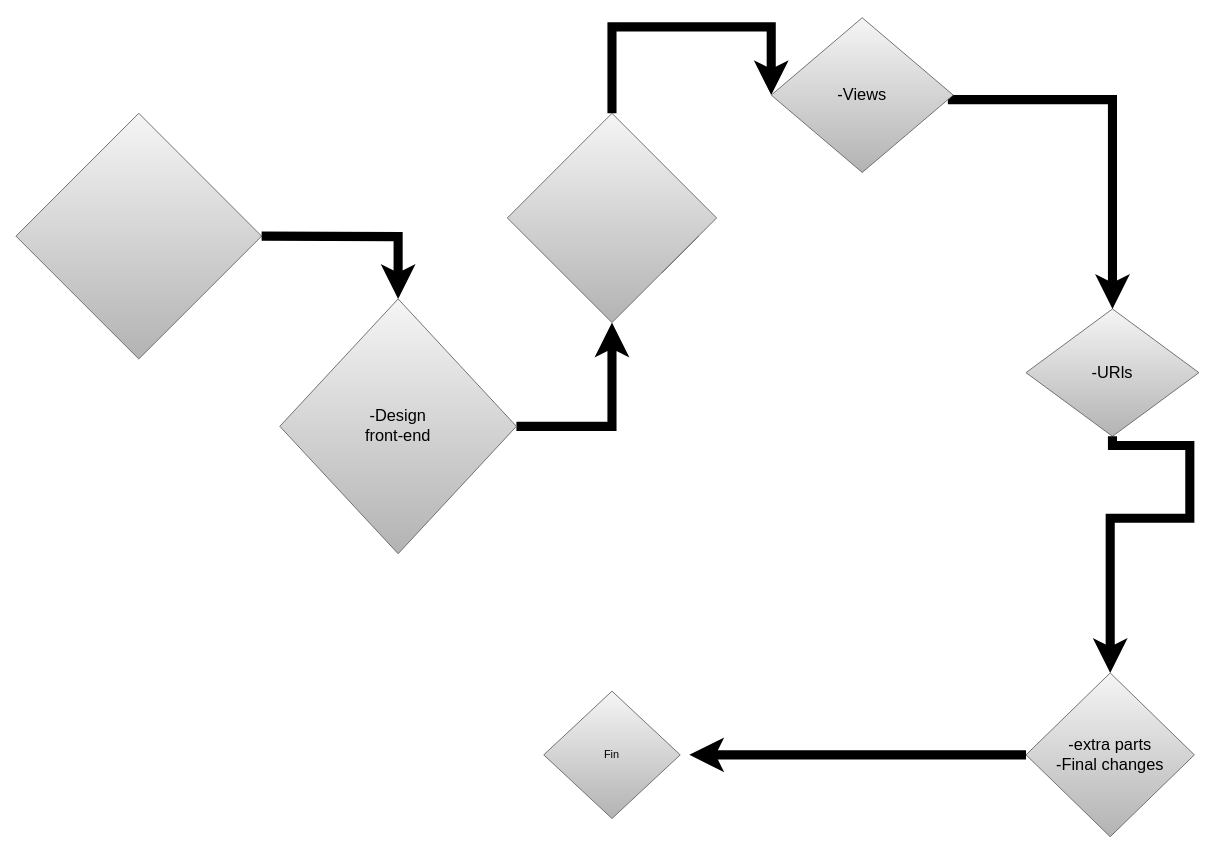
Image size: 1218x853. Some labels were removed from this diagram. The centre of each missing label's shape, as x and y in pixels:
"-ERD -Models" goes at point 138,235.
"-Templates" goes at point 611,217.
